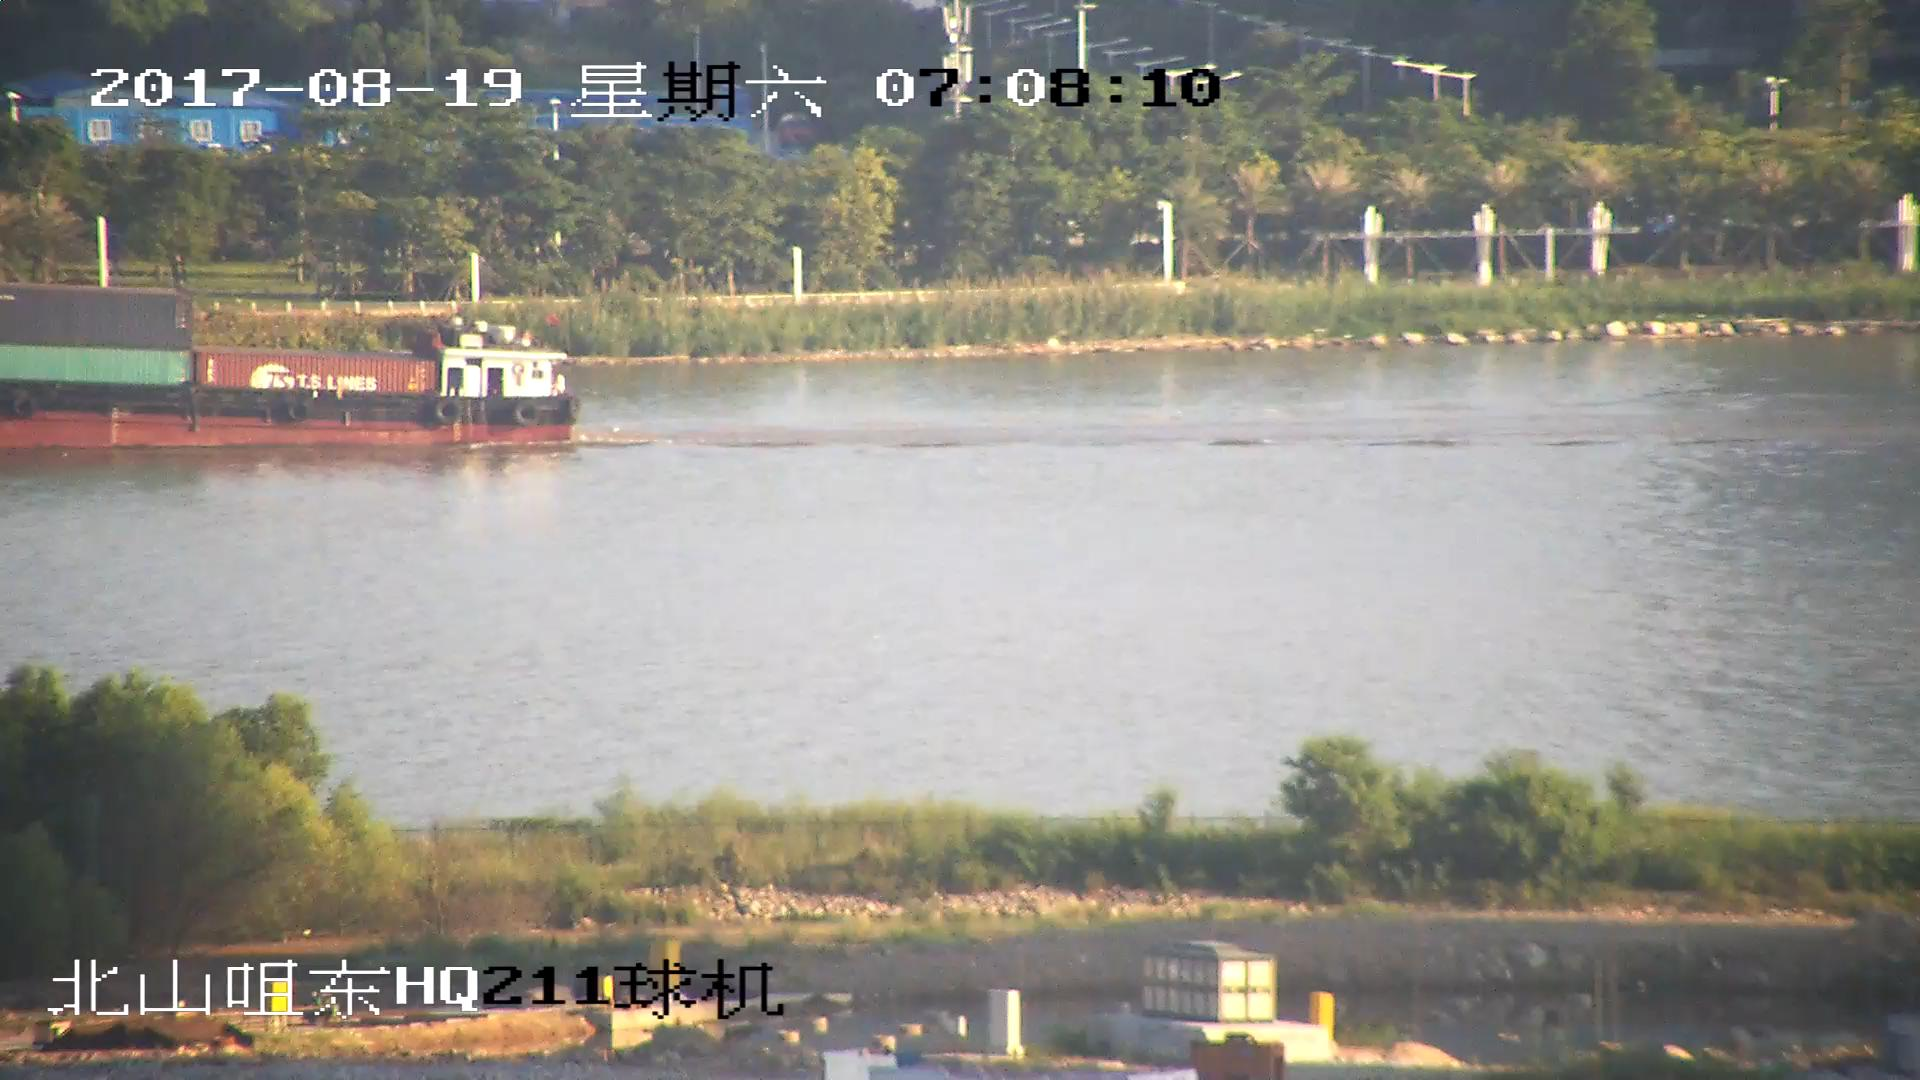container ship: (1, 294, 578, 456)
